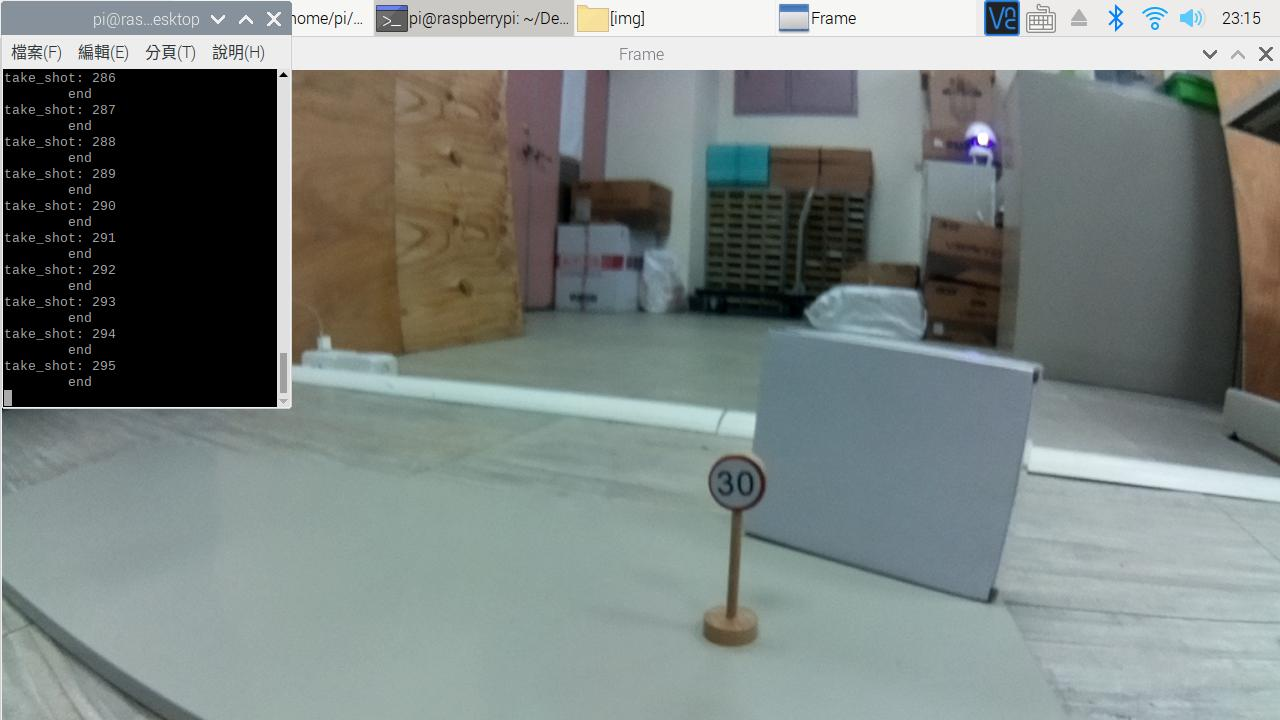Speed30: (699, 448, 791, 525)
